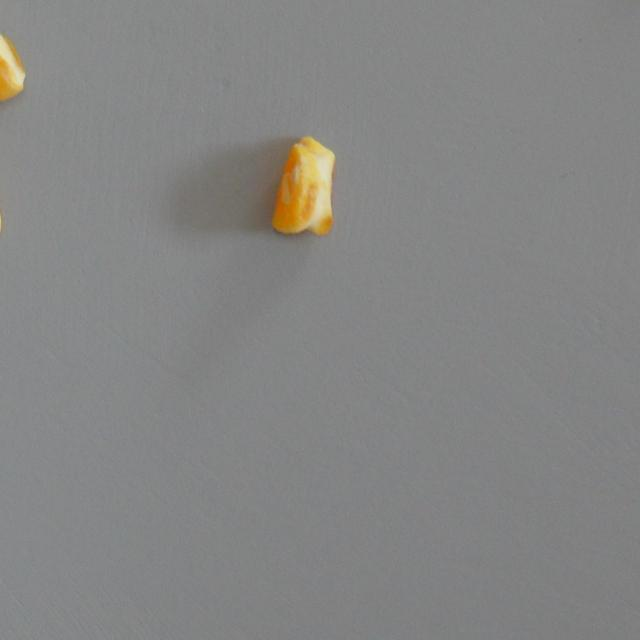pelicula: (260, 135, 356, 239), (0, 0, 31, 111)
